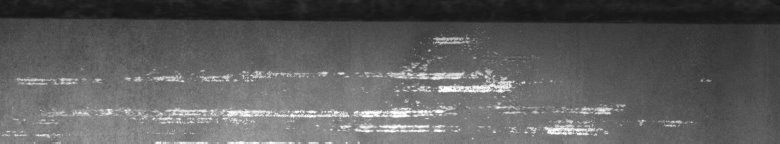kb: (4, 16, 711, 136)
